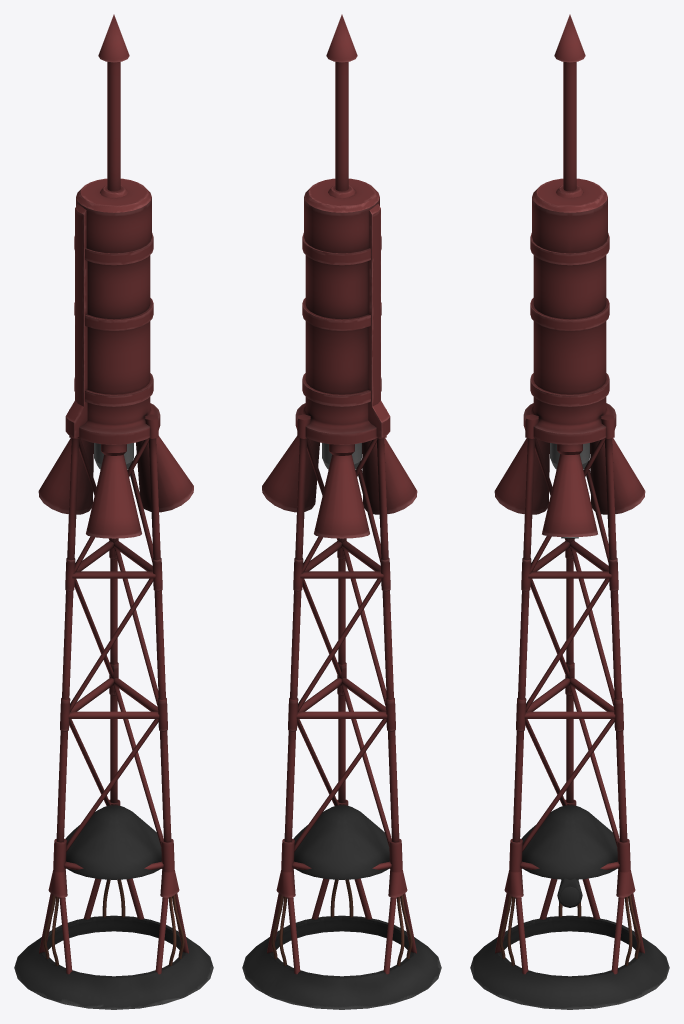
File: LES.fbx
3 views of the same model, side by side, from view 1: azimuth 30°, elevation 25°; view 2: azimuth 150°, elevation 25°; view 3: azimuth 270°, elevation 25° (orthographic).
Visible parts, largest first — view 1: Mercury_LES_Merged; view 2: Mercury_LES_Merged; view 3: Mercury_LES_Merged.
Part boxes in pixels (left/top/right/bottom): Mercury_LES_Merged: left=14, top=14, right=213, bottom=1009; Mercury_LES_Merged: left=242, top=14, right=441, bottom=1009; Mercury_LES_Merged: left=470, top=14, right=669, bottom=1009.
Size of the model in its own units: 0.6913 by 3.65 by 0.6913.
